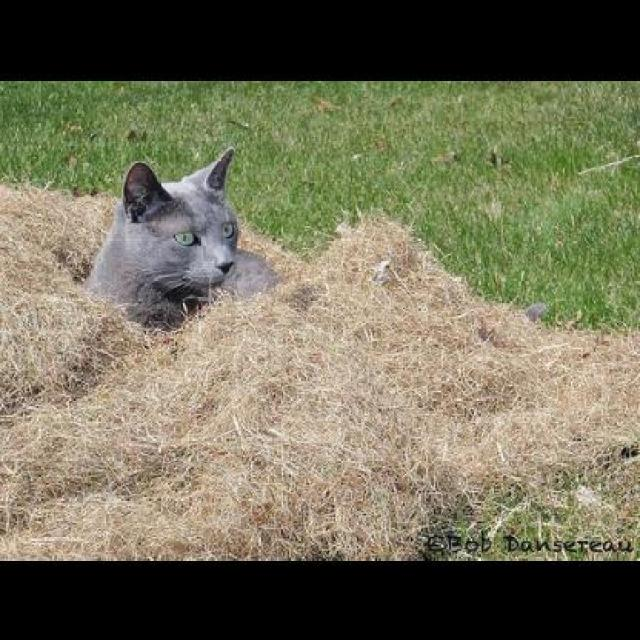unauthorized: (82, 144, 278, 333)
